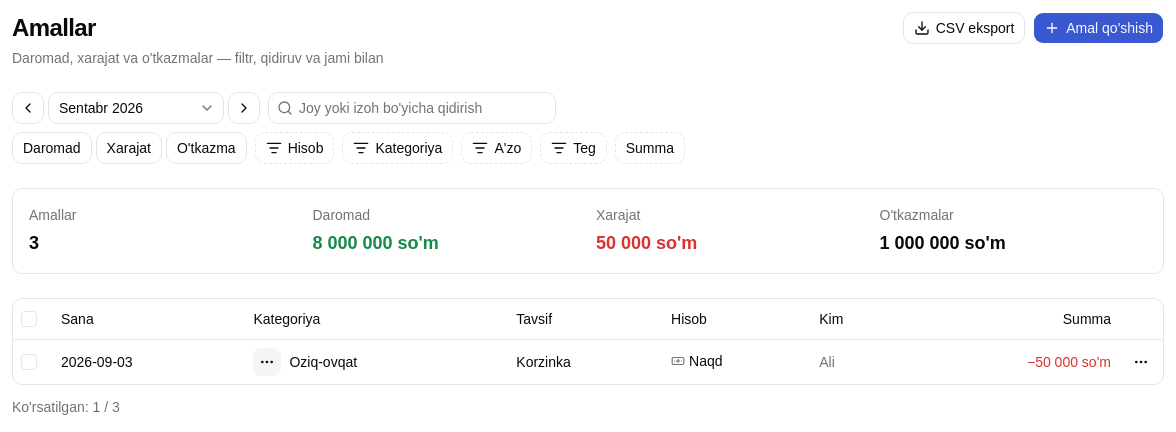
Scenario: TransactionsPage (E23-T01) › qidiruvda pauza — so‘z oxiridagi probel o‘chmaydi
Expected: the table named "Amallar" is shown, [13,299,1163,384]
Type "yandex " into the search field labelled "Joy yoki izoh bo'yicha qidirish" at (424, 108), box [293,92,555,124]
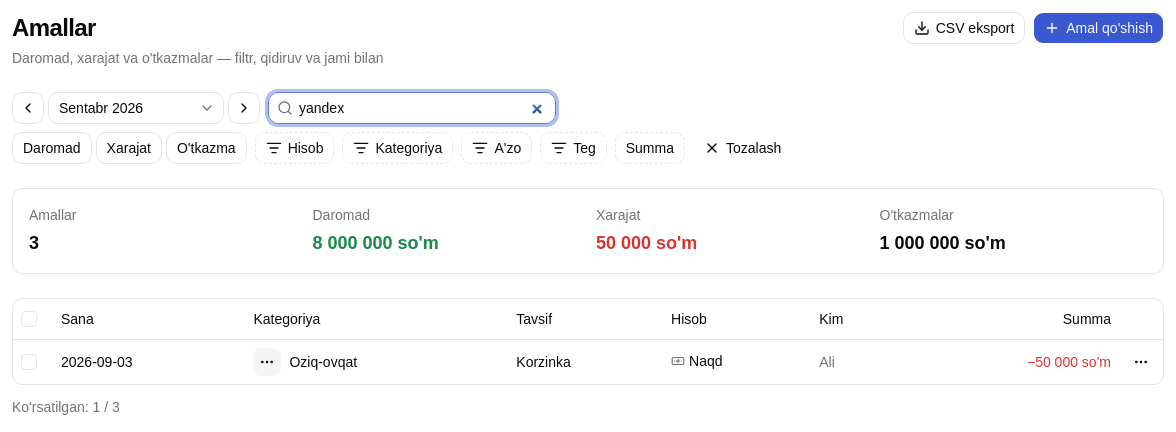
Type "go" into the search field named "Joy yoki izoh bo'yicha qidirish" at (424, 108), box [293,92,555,124]
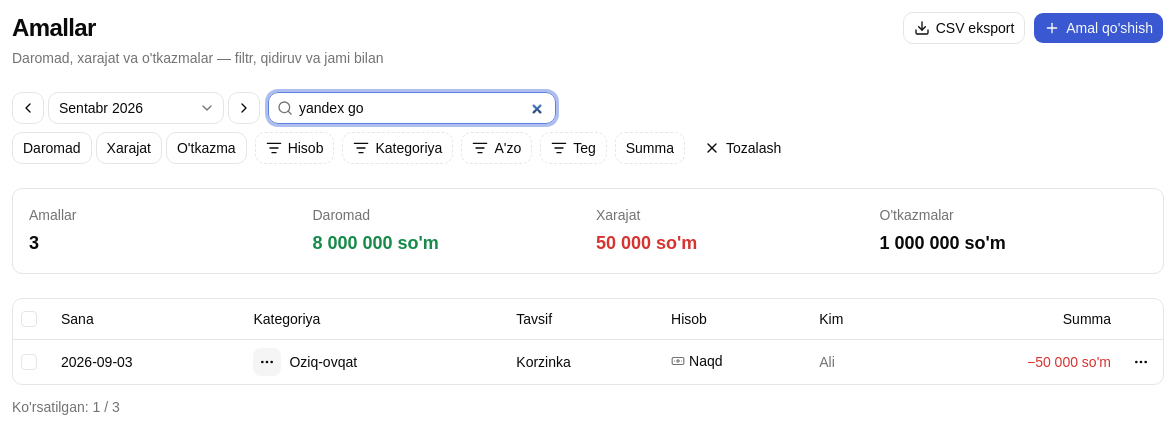
Result: the search field named "Joy yoki izoh bo'yicha qidirish" holds "yandex go" at [293,92,555,124]
